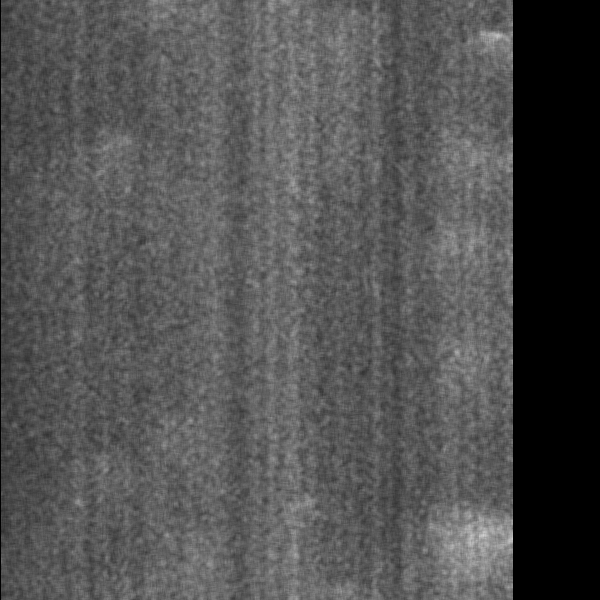spark: (442, 504, 507, 600), (480, 25, 509, 65)
